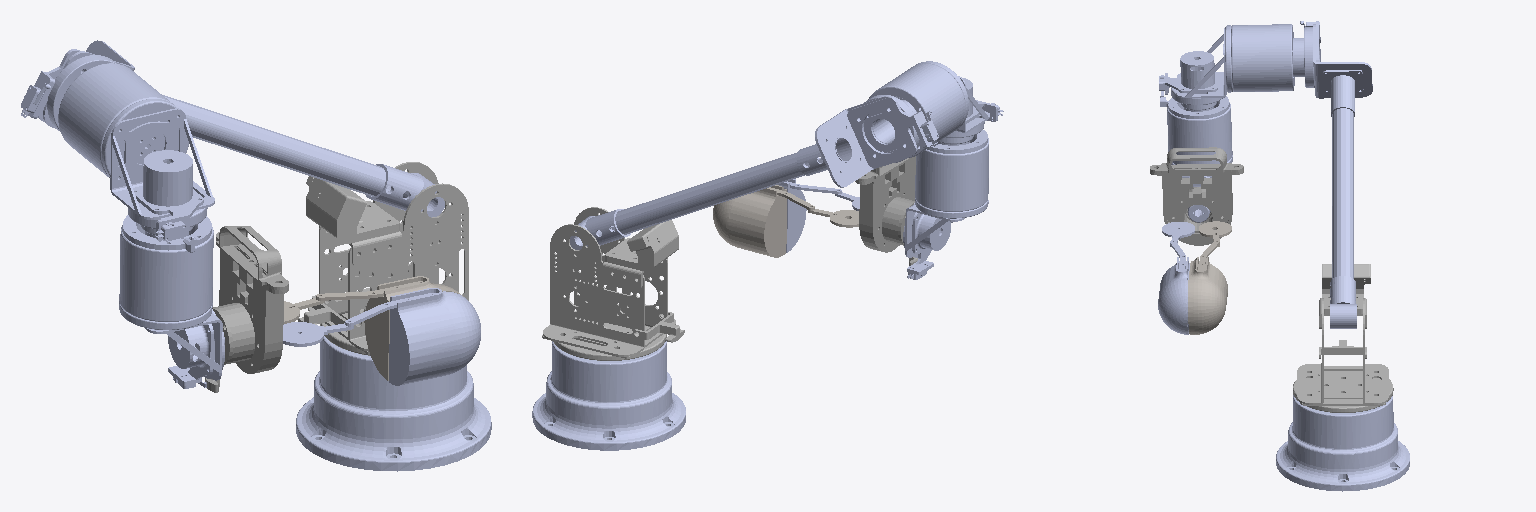
URDF robot description (full_sampling_urdf):
<?xml version="1.0" encoding="utf-8" ?>
<!-- This URDF was automatically created by SolidWorks to URDF Exporter! Originally created by [author] ([email redacted]) 
     Commit Version: 1.6.0-4-g7f85cfe  Build Version: 1.6.7995.38578
     For more information, please see http://wiki.ros.org/sw_urdf_exporter -->
<robot name="full_sampling_urdf">
    <link name="world" />
    <joint name="base_rover" type="fixed">
        <parent link="world" />
        <child link="rover" />
        <origin rpy="0 0 0" xyz="0.0 0.0 0.00001" />
    </joint>
    <link name="rover">
        <inertial>
            <origin xyz="-0.029777 -0.04233 0.22201" rpy="0 0 0" />
            <mass value="23.83" />
            <inertia ixx="0.10672" ixy="-0.0004091" ixz="-0.0028185" iyy="0.13598" iyz="-0.0022915" izz="0.14333" />
        </inertial>
        <visual>
            <origin xyz="0 0 0" rpy="0 0 0" />
            <geometry>
                <mesh filename="package://full_sampling_urdf/meshes/rover.STL" />
            </geometry>
            <material name="">
                <color rgba="0.79216 0.81961 0.93333 1" />
            </material>
        </visual>
        <collision>
            <origin xyz="0 0 0" rpy="0 0 0" />
            <geometry>
                <mesh filename="package://full_sampling_urdf/meshes/rover.STL" />
            </geometry>
        </collision>
    </link>
    <link name="base_arm">
        <inertial>
            <origin xyz="-4.0327E-09 -1.0227E-07 0.053561" rpy="0 0 0" />
            <mass value="1.1556" />
            <inertia ixx="0.0056425" ixy="-1.4426E-18" ixz="1.2929E-18" iyy="0.0056425" iyz="-3.0437E-17" izz="0.0078318" />
        </inertial>
        <visual>
            <origin xyz="0 0 0" rpy="0 0 0" />
            <geometry>
                <mesh filename="package://full_sampling_urdf/meshes/base_arm.STL" />
            </geometry>
            <material name="">
                <color rgba="0.79216 0.81961 0.93333 1" />
            </material>
        </visual>
        <collision>
            <origin xyz="0 0 0" rpy="0 0 0" />
            <geometry>
                <mesh filename="package://full_sampling_urdf/meshes/base_arm.STL" />
            </geometry>
        </collision>
    </link>
    <joint name="base_joint" type="fixed">
        <origin xyz="0.248992596226246 0.000708686024747718 0.407000180703943" rpy="0 0 0" />
        <parent link="rover" />
        <child link="base_arm" />
        <axis xyz="0 0 0" />
    </joint>
    <link name="link_1">
        <inertial>
            <origin xyz="-0.011459 0.00039596 0.056299" rpy="0 0 0" />
            <mass value="0.94142" />
            <inertia ixx="0.0016992" ixy="9.1195E-07" ixz="-0.00011148" iyy="0.002396" iyz="-6.3597E-06" izz="0.0021858" />
        </inertial>
        <visual>
            <origin xyz="0 0 0" rpy="0 0 0" />
            <geometry>
                <mesh filename="package://full_sampling_urdf/meshes/link_1.STL" />
            </geometry>
            <material name="">
                <color rgba="0.75294 0.75294 0.75294 1" />
            </material>
        </visual>
        <collision>
            <origin xyz="0 0 0" rpy="0 0 0" />
            <geometry>
                <mesh filename="package://full_sampling_urdf/meshes/link_1.STL" />
            </geometry>
        </collision>
    </link>
    <joint name="joint_1" type="revolute">
        <origin xyz="0 0 0.133" rpy="0 0 0" />
        <parent link="base_arm" />
        <child link="link_1" />
        <axis xyz="0 0 1" />
        <limit lower="-3.14" upper="3.14" effort="100" velocity="2" />
    </joint>
    <link name="link_2">
        <inertial>
            <origin xyz="-0.00045755 0.40328 0.043283" rpy="0 0 0" />
            <mass value="0.4979" />
            <inertia ixx="0.0016855" ixy="5.5179E-06" ixz="8.2239E-07" iyy="0.0004916" iyz="-3.1358E-05" izz="0.0016038" />
        </inertial>
        <visual>
            <origin xyz="0 0 0" rpy="0 0 0" />
            <geometry>
                <mesh filename="package://full_sampling_urdf/meshes/link_2.STL" />
            </geometry>
            <material name="">
                <color rgba="0.79216 0.81961 0.93333 1" />
            </material>
        </visual>
        <collision>
            <origin xyz="0 0 0" rpy="0 0 0" />
            <geometry>
                <mesh filename="package://full_sampling_urdf/meshes/link_2.STL" />
            </geometry>
        </collision>
    </link>
    <joint name="joint_2" type="revolute">
        <origin xyz="0.035502 0 0.1489" rpy="1.6351 -1.0672 -0.073404" />
        <parent link="link_1" />
        <child link="link_2" />
        <axis xyz="0.035393 0 0.99937" />
        <limit lower="-3.14" upper="3.14" effort="100" velocity="2" />
    </joint>
    <link name="link_3">
        <inertial>
            <origin xyz="-0.00030131 -0.019482 0.039042" rpy="0 0 0" />
            <mass value="0.7923" />
            <inertia ixx="0.0012569" ixy="-2.4888E-06" ixz="4.6773E-06" iyy="0.001197" iyz="2.0348E-05" izz="0.0014787" />
        </inertial>
        <visual>
            <origin xyz="0 0 0" rpy="0 0 0" />
            <geometry>
                <mesh filename="package://full_sampling_urdf/meshes/link_3.STL" />
            </geometry>
            <material name="">
                <color rgba="0.79216 0.81961 0.93333 1" />
            </material>
        </visual>
        <collision>
            <origin xyz="0 0 0" rpy="0 0 0" />
            <geometry>
                <mesh filename="package://full_sampling_urdf/meshes/link_3.STL" />
            </geometry>
        </collision>
    </link>
    <joint name="joint_3" type="revolute">
        <origin xyz="0 0.5275 0.1315" rpy="0 0 -1.0681" />
        <parent link="link_2" />
        <child link="link_3" />
        <axis xyz="0 0 -1" />
        <limit lower="-3.14" upper="3.14" effort="50" velocity="4" />
    </joint>
    <link name="link_4">
        <inertial>
            <origin xyz="0.0079397 0.000173 0.021744" rpy="0 0 0" />
            <mass value="0.66623" />
            <inertia ixx="0.00090613" ixy="1.3369E-06" ixz="-1.4629E-05" iyy="0.0008857" iyz="3.9024E-06" izz="0.0011479" />
        </inertial>
        <visual>
            <origin xyz="0 0 0" rpy="0 0 0" />
            <geometry>
                <mesh filename="package://full_sampling_urdf/meshes/link_4.STL" />
            </geometry>
            <material name="">
                <color rgba="0.79216 0.81961 0.93333 1" />
            </material>
        </visual>
        <collision>
            <origin xyz="0 0 0" rpy="0 0 0" />
            <geometry>
                <mesh filename="package://full_sampling_urdf/meshes/link_4.STL" />
            </geometry>
        </collision>
    </link>
    <joint name="joint_4" type="revolute">
        <origin xyz="0 -0.12961 0.10761" rpy="1.5708 0.017046 0" />
        <parent link="link_3" />
        <child link="link_4" />
        <axis xyz="0 0 -1" />
        <limit lower="-3.14" upper="3.14" effort="50" velocity="4" />
    </joint>
    <link name="link_5">
        <inertial>
            <origin xyz="-0.00070298 0.014216 0.056509" rpy="0 0 0" />
            <mass value="0.21482" />
            <inertia ixx="0.00023527" ixy="1.7539E-06" ixz="-5.4061E-08" iyy="0.00035715" iyz="-7.103E-06" izz="0.00033386" />
        </inertial>
        <visual>
            <origin xyz="0 0 0" rpy="0 0 0" />
            <geometry>
                <mesh filename="package://full_sampling_urdf/meshes/link_5.STL" />
            </geometry>
            <material name="">
                <color rgba="0.69804 0.69804 0.69804 1" />
            </material>
        </visual>
        <collision>
            <origin xyz="0 0 0" rpy="0 0 0" />
            <geometry>
                <mesh filename="package://full_sampling_urdf/meshes/link_5.STL" />
            </geometry>
        </collision>
    </link>
    <joint name="joint_5" type="revolute">
        <origin xyz="0.083 0.0042084 0.10261" rpy="-1.5708 0 -1.5201" />
        <parent link="link_4" />
        <child link="link_5" />
        <axis xyz="0 0 -1" />
        <limit lower="-3.14" upper="3.14" effort="50" velocity="4" />
    </joint>
    <link name="Left_ee">
        <inertial>
            <origin xyz="-0.0057183 0.15403 0.03994" rpy="0 0 0" />
            <mass value="0.12335" />
            <inertia ixx="0.00024215" ixy="1.0538E-06" ixz="4.9605E-07" iyy="0.0001361" iyz="-2.9928E-06" izz="0.00016427" />
        </inertial>
        <visual>
            <origin xyz="0 0 0" rpy="0 0 0" />
            <geometry>
                <mesh filename="package://full_sampling_urdf/meshes/Left_ee.STL" />
            </geometry>
            <material name="">
                <color rgba="0.79216 0.81961 0.93333 1" />
            </material>
        </visual>
        <collision>
            <origin xyz="0 0 0" rpy="0 0 0" />
            <geometry>
                <mesh filename="package://full_sampling_urdf/meshes/Left_ee.STL" />
            </geometry>
        </collision>
    </link>
    <joint name="joint_lee" type="revolute">
        <origin xyz="-0.03 -0.0028 0.072" rpy="1.5692 0.05065 -0.031058" />
        <parent link="link_5" />
        <child link="Left_ee" />
        <axis xyz="0.031013 0 0.99952" />
        <limit lower="0" upper="0.8" effort="15" velocity="1" />
    </joint>
    <link name="Right_ee">
        <inertial>
            <origin xyz="0.0076067 0.15456 -0.039785" rpy="0 0 0" />
            <mass value="0.12478" />
            <inertia ixx="0.00024871" ixy="-9.3215E-06" ixz="-6.3592E-06" iyy="0.00014312" iyz="4.4813E-06" izz="0.00016894" />
        </inertial>
        <visual>
            <origin xyz="0 0 0" rpy="0 0 0" />
            <geometry>
                <mesh filename="package://full_sampling_urdf/meshes/Right_ee.STL" />
            </geometry>
            <material name="">
                <color rgba="0.77647 0.75686 0.73725 1" />
            </material>
        </visual>
        <collision>
            <origin xyz="0 0 0" rpy="0 0 0" />
            <geometry>
                <mesh filename="package://full_sampling_urdf/meshes/Right_ee.STL" />
            </geometry>
        </collision>
    </link>
    <joint name="joint_ree" type="revolute">
        <origin xyz="0.03 -0.0028 0.072" rpy="1.5724 -0.05065 3.1105" />
        <parent link="link_5" />
        <child link="Right_ee" />
        <axis xyz="0.031013 0 0.99952" />
        <limit lower="0" upper="0.8" effort="15" velocity="1" />
    </joint>
    <transmission name="link_1_trans">
        <type>transmission_interface/SimpleTransmission</type>
        <joint name="joint_1">
            <hardwareInterface>hardware_interface/PositionJointInterface</hardwareInterface>
        </joint>
        <actuator name="link_1_motor">
            <hardwareInterface>hardware_interface/PositionJointInterface</hardwareInterface>
            <mechanicalReduction>1</mechanicalReduction>
        </actuator>
    </transmission>
    <transmission name="link_2_trans">
        <type>transmission_interface/SimpleTransmission</type>
        <joint name="joint_2">
            <hardwareInterface>hardware_interface/PositionJointInterface</hardwareInterface>
        </joint>
        <actuator name="link_2_motor">
            <hardwareInterface>hardware_interface/PositionJointInterface</hardwareInterface>
            <mechanicalReduction>1</mechanicalReduction>
        </actuator>
    </transmission>
    <transmission name="link_3_trans">
        <type>transmission_interface/SimpleTransmission</type>
        <joint name="joint_3">
            <hardwareInterface>hardware_interface/PositionJointInterface</hardwareInterface>
        </joint>
        <actuator name="link_3_motor">
            <hardwareInterface>hardware_interface/PositionJointInterface</hardwareInterface>
            <mechanicalReduction>1</mechanicalReduction>
        </actuator>
    </transmission>
    <transmission name="link_4_trans">
        <type>transmission_interface/SimpleTransmission</type>
        <joint name="joint_4">
            <hardwareInterface>hardware_interface/PositionJointInterface</hardwareInterface>
        </joint>
        <actuator name="link_4_motor">
            <hardwareInterface>hardware_interface/PositionJointInterface</hardwareInterface>
            <mechanicalReduction>1</mechanicalReduction>
        </actuator>
    </transmission>
    <transmission name="link_5_trans">
        <type>transmission_interface/SimpleTransmission</type>
        <joint name="joint_5">
            <hardwareInterface>hardware_interface/PositionJointInterface</hardwareInterface>
        </joint>
        <actuator name="link_5_motor">
            <hardwareInterface>hardware_interface/PositionJointInterface</hardwareInterface>
            <mechanicalReduction>1</mechanicalReduction>
        </actuator>
    </transmission>
    <transmission name="Left_ee_trans">
        <type>transmission_interface/SimpleTransmission</type>
        <joint name="joint_lee">
            <hardwareInterface>hardware_interface/PositionJointInterface</hardwareInterface>
        </joint>
        <actuator name="Left_ee_motor">
            <hardwareInterface>hardware_interface/PositionJointInterface</hardwareInterface>
            <mechanicalReduction>1</mechanicalReduction>
        </actuator>
    </transmission>
    <transmission name="Right_ee_trans">
        <type>transmission_interface/SimpleTransmission</type>
        <joint name="joint_ree">
            <hardwareInterface>hardware_interface/PositionJointInterface</hardwareInterface>
        </joint>
        <actuator name="Right_ee_motor">
            <hardwareInterface>hardware_interface/PositionJointInterface</hardwareInterface>
            <mechanicalReduction>1</mechanicalReduction>
        </actuator>
    </transmission>
    <gazebo>
        <plugin name="control" filename="libgazebo_ros_control.so">
            <robotNamespace>/</robotNamespace>
        </plugin>
        <plugin name="gazebo_ros_control" filename="libgazebo_ros_control.so">
            <robotNamespace>/</robotNamespace>
        </plugin>
    </gazebo>
    <gazebo reference="rover">
        <selfCollide>true</selfCollide>
    </gazebo>
    <gazebo reference="base_arm">
        <selfCollide>true</selfCollide>
    </gazebo>
    <gazebo reference="link_1">
        <selfCollide>true</selfCollide>
    </gazebo>
    <gazebo reference="link_2">
        <selfCollide>true</selfCollide>
    </gazebo>
    <gazebo reference="link_3">
        <selfCollide>true</selfCollide>
    </gazebo>
    <gazebo reference="link_4">
        <selfCollide>true</selfCollide>
    </gazebo>
    <gazebo reference="link_5">
        <selfCollide>true</selfCollide>
    </gazebo>
    <gazebo reference="Left_ee">
        <selfCollide>true</selfCollide>
    </gazebo>
    <gazebo reference="Right_ee">
        <selfCollide>true</selfCollide>
    </gazebo>
    <!--  
  <gazebo>
    <plugin name="gazebo_grasp_fix" filename="libgazebo_grasp_fix.so">
      <arm>
        <arm_name>/</arm_name>
        <palm_link>link_5</palm_link>
        <gripper_link>Right_ee</gripper_link>
        <gripper_link>Left_ee</gripper_link>
      </arm>
      <forces_angle_tolerance>90</forces_angle_tolerance>
      <update_rate>10</update_rate>
      <grip_count_threshold>3</grip_count_threshold>
      <max_grip_count>10</max_grip_count>
      <release_tolerance>0.004</release_tolerance>
      <disable_collisions_on_attach>true</disable_collisions_on_attach>
      <contact_topic>__default_topic__</contact_topic>
    </plugin> 
  </gazebo>
  -->
</robot>

--- Facts derived from the render (not from the file) ---
Views: 3 orthographic renders of the robot side by side, from view 1: azimuth 30°, elevation 25°; view 2: azimuth 150°, elevation 25°; view 3: azimuth 270°, elevation 25°.
Model full_sampling_urdf with 10 links and 9 joints (7 revolute, 2 fixed), rooted at world, posed every joint at zero.
Links seen in each view (by area): view 1: base_arm, link_3, link_1, link_4, link_2, Left_ee, link_5, Right_ee; view 2: link_1, link_2, base_arm, link_4, link_3, Right_ee, link_5, Left_ee; view 3: base_arm, link_2, link_3, link_1, link_5, link_4, Right_ee, Left_ee.
Link boxes in pixels (x1,y1,x2,y2): base_arm: (296,336,491,471); link_3: (58,63,214,241); link_1: (298,162,468,355); link_4: (119,215,224,388); link_2: (21,40,444,217); Left_ee: (283,288,480,385); link_5: (205,226,288,392); Right_ee: (284,276,463,380); link_1: (542,207,684,360); link_2: (570,95,938,249); base_arm: (532,341,685,450); link_4: (903,130,988,279); link_3: (868,61,1003,157); Right_ee: (713,185,858,257); link_5: (855,156,917,265); Left_ee: (778,179,859,252); base_arm: (1276,395,1409,491); link_2: (1293,21,1372,328); link_3: (1159,24,1294,111); link_1: (1293,264,1393,412); link_5: (1150,147,1243,245); link_4: (1160,96,1232,222); Right_ee: (1188,221,1231,334); Left_ee: (1158,222,1194,334).
Size in the robot's own frame: 0.6223 by 0.4269 by 0.5922 metres.
8 mesh visuals loaded from 9 distinct referenced files (8 binary STL); not drawn: 1 (reference not matched to a file when rendering).
